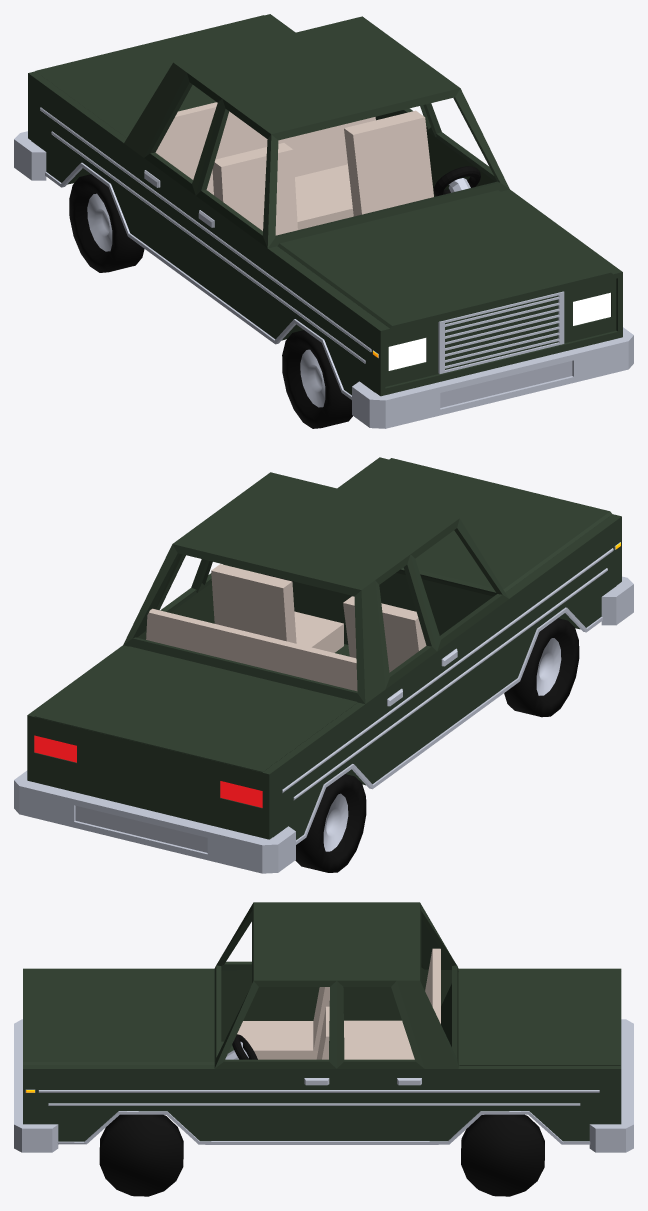
Rendered from car.glb.
3 renders of one model, top to bottom at view 1: azimuth 30°, elevation 25°; view 2: azimuth 150°, elevation 25°; view 3: azimuth 270°, elevation 25°, orthographic. The views are drawn at different scales.
Visible parts, largest first — view 1: car1, object 3, wheel_rear_right, wheel_front_right, object 5, object 2; view 2: car1, object 3, wheel_front_right, wheel_rear_right, object 6; view 3: car1, object 3, wheel_front_left, wheel_rear_left.
Boxes of the visible parts, bbox=[...] form: car1: bbox=[14, 14, 633, 428]; object 3: bbox=[155, 102, 433, 235]; wheel_rear_right: bbox=[69, 174, 144, 272]; wheel_front_right: bbox=[282, 330, 352, 428]; object 5: bbox=[388, 292, 610, 370]; object 2: bbox=[433, 166, 480, 196]; car1: bbox=[14, 457, 633, 873]; object 3: bbox=[146, 564, 426, 691]; wheel_front_right: bbox=[504, 618, 579, 717]; wheel_rear_right: bbox=[295, 774, 366, 872]; object 6: bbox=[34, 735, 262, 807]; car1: bbox=[14, 902, 633, 1152]; object 3: bbox=[237, 948, 440, 1059]; wheel_front_left: bbox=[99, 1114, 183, 1196]; wheel_rear_left: bbox=[461, 1114, 544, 1196].
Size of the model in its own units: 2.19 by 1.86 by 5.22.
